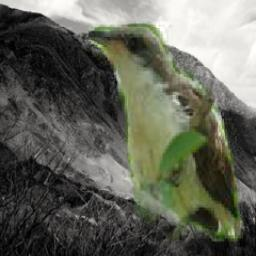Cuckoo: (87, 22, 242, 243)
